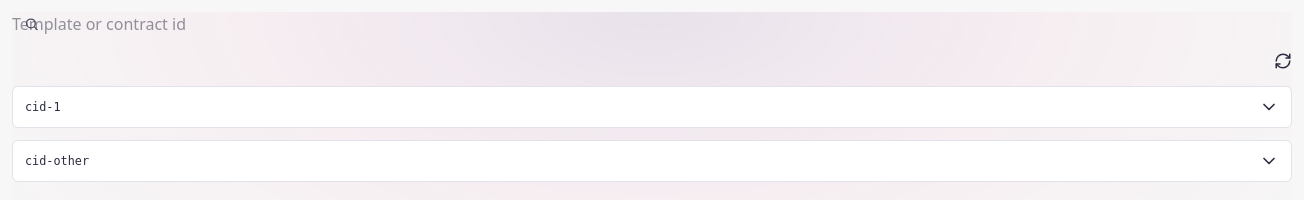
Test: ActiveContractsUtil › filters the list locally by template or contract id as you type
Expected: the text "cid-1" is shown, [25,100,61,114]
Expected: the text "cid-other" is shown, [25,154,89,168]
Note: Template suffix match keeps only the contract whose template ends with the typed name.
Type "Other" into the field named "Filter contracts" at (128, 24), box [12,12,243,36]
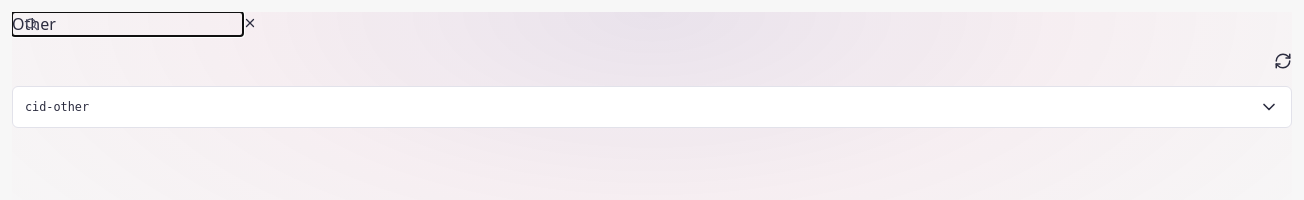
Expected: the text "cid-other" is shown, [25,100,89,114]
Expected: the text "cid-1" is gone
Note: A contract-id substring narrows it the other way.
Replace the text in the field named "Filter contracts" with "-1" at (128, 24), box [12,12,243,36]
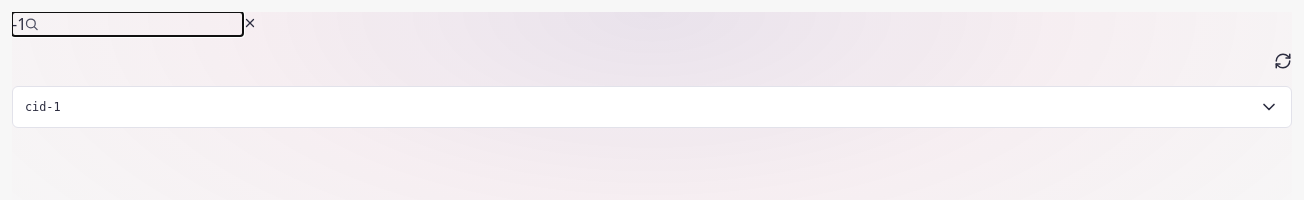
Expected: the text "cid-other" is not shown
Expected: the text "cid-1" is shown, [25,100,61,114]
Clear the field named "Filter contracts" at (128, 24), box [12,12,243,36]
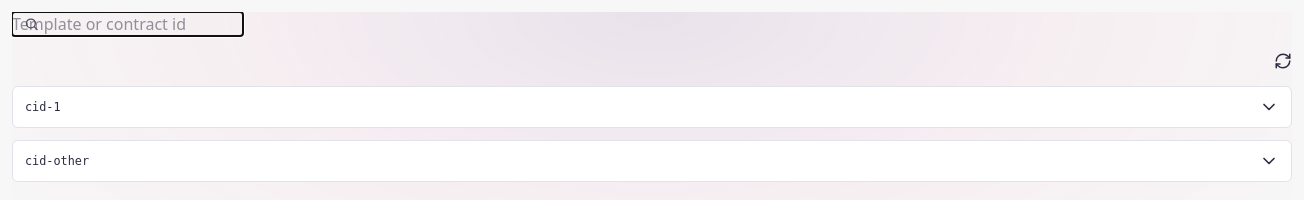
Expected: the text "cid-1" is shown, [25,100,61,114]
Expected: the text "cid-other" is shown, [25,154,89,168]
